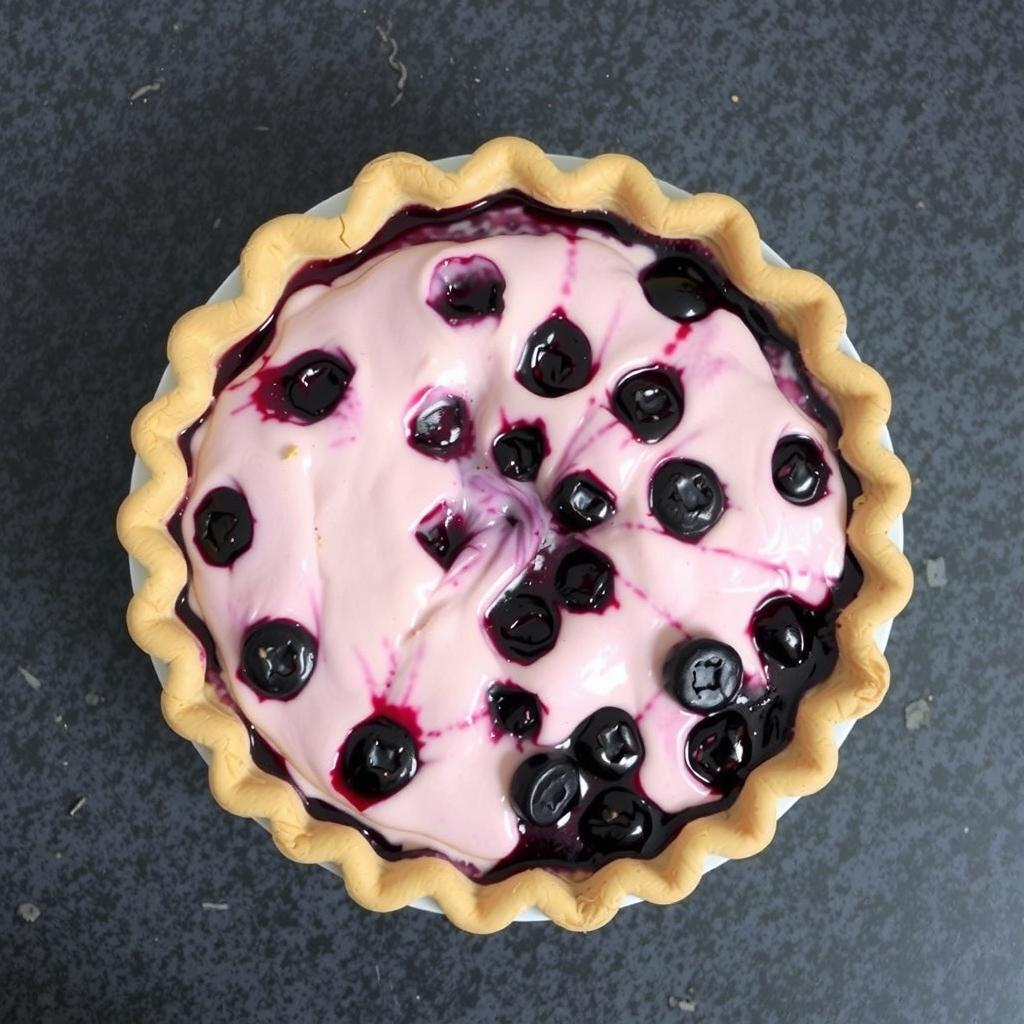pie: (109, 131, 923, 939)
